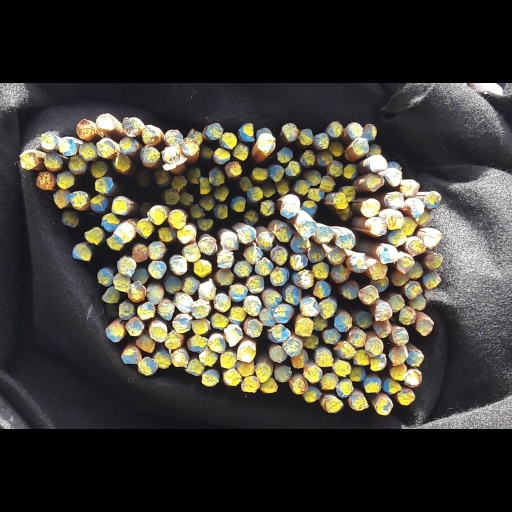dipstick: (280, 164, 300, 199), (137, 406, 158, 435), (147, 180, 167, 210), (388, 388, 408, 418), (359, 298, 379, 327), (127, 292, 145, 324), (191, 319, 210, 349), (122, 51, 141, 80), (365, 133, 384, 162), (199, 289, 216, 321), (225, 357, 242, 389), (97, 81, 115, 111), (111, 166, 129, 196), (187, 372, 207, 399), (136, 372, 155, 400), (237, 386, 256, 414), (257, 73, 275, 102), (168, 187, 186, 216), (115, 207, 133, 236), (146, 298, 164, 327), (181, 284, 199, 313), (175, 312, 193, 341), (275, 207, 293, 236), (140, 93, 160, 119), (360, 170, 380, 196), (44, 102, 63, 129), (193, 261, 212, 288), (220, 221, 239, 248), (336, 436, 353, 466), (79, 87, 97, 115), (76, 54, 94, 82), (348, 364, 366, 392), (365, 377, 383, 405), (369, 263, 387, 291), (335, 221, 355, 246), (290, 225, 310, 250), (406, 231, 426, 256), (84, 213, 103, 239), (117, 258, 136, 284), (237, 211, 256, 237), (303, 448, 322, 474), (423, 218, 442, 244), (142, 62, 159, 91), (282, 58, 299, 87), (20, 101, 38, 128), (36, 131, 54, 158), (101, 192, 119, 219), (73, 237, 91, 264), (157, 324, 175, 351), (105, 357, 123, 384), (208, 373, 226, 400), (223, 422, 241, 449), (295, 348, 313, 375), (319, 322, 337, 349), (387, 312, 405, 339), (404, 293, 422, 320), (406, 170, 424, 197), (114, 279, 130, 309), (324, 465, 344, 489), (41, 71, 58, 99), (299, 202, 316, 230), (296, 276, 313, 304), (291, 394, 308, 422), (392, 361, 409, 389), (199, 394, 218, 419), (70, 159, 88, 185), (148, 263, 166, 289), (244, 241, 262, 267), (331, 269, 349, 295), (172, 343, 190, 369), (283, 380, 301, 406), (269, 388, 287, 414), (300, 319, 318, 345), (375, 466, 393, 492), (416, 349, 434, 375), (136, 201, 152, 230), (351, 250, 367, 279), (122, 392, 142, 415), (59, 80, 76, 107), (270, 273, 287, 300), (308, 238, 325, 265), (154, 396, 171, 423), (375, 324, 392, 351), (380, 240, 397, 267), (119, 81, 138, 105), (96, 45, 114, 70), (165, 68, 183, 93), (162, 94, 180, 119), (198, 228, 216, 253), (137, 324, 155, 349), (255, 259, 273, 284), (229, 299, 247, 324), (125, 350, 143, 375), (171, 395, 189, 420), (186, 407, 204, 432), (201, 424, 219, 449), (260, 435, 278, 460), (333, 410, 351, 435), (351, 460, 369, 485), (406, 395, 424, 420), (334, 343, 352, 368), (341, 293, 359, 318), (369, 200, 387, 225), (402, 197, 417, 227), (401, 144, 419, 169), (171, 256, 187, 284), (165, 284, 181, 312), (257, 219, 273, 247), (165, 366, 181, 394), (182, 81, 199, 107), (90, 164, 107, 190), (96, 274, 113, 300), (290, 252, 307, 278), (264, 308, 281, 334), (374, 352, 391, 378), (355, 338, 372, 364), (397, 256, 414, 282), (423, 279, 440, 305), (386, 190, 403, 216), (94, 139, 113, 162), (271, 358, 290, 381), (67, 108, 85, 132), (184, 238, 200, 265), (102, 301, 120, 325), (327, 54, 343, 81), (234, 263, 252, 287), (149, 359, 167, 383), (304, 419, 322, 443), (274, 329, 290, 356), (397, 453, 415, 477), (338, 384, 356, 408), (408, 312, 426, 336), (391, 277, 409, 301), (57, 132, 74, 157), (154, 128, 171, 153), (319, 137, 336, 162), (316, 212, 333, 237), (229, 331, 246, 356), (398, 333, 415, 358), (206, 58, 222, 84), (209, 126, 225, 152), (199, 163, 215, 189), (119, 324, 135, 350), (214, 312, 230, 338), (217, 247, 233, 273), (347, 57, 363, 83), (271, 243, 287, 269), (388, 161, 404, 187), (323, 363, 341, 386), (383, 437, 401, 460), (389, 218, 407, 241), (216, 274, 233, 298), (352, 81, 369, 105), (293, 142, 310, 166), (247, 286, 264, 310), (211, 341, 228, 365), (242, 434, 259, 458), (274, 419, 291, 443), (316, 395, 333, 419), (404, 426, 421, 450), (370, 106, 387, 130), (286, 301, 301, 328), (408, 263, 423, 290), (115, 105, 131, 130), (269, 120, 285, 145), (305, 128, 321, 153), (220, 397, 236, 422), (255, 415, 271, 440), (425, 159, 441, 184), (425, 253, 443, 275), (387, 125, 401, 153), (91, 116, 108, 139), (225, 116, 242, 139), (177, 213, 194, 236), (302, 372, 319, 395), (321, 429, 338, 452), (390, 417, 407, 440), (369, 402, 386, 425), (335, 180, 352, 203), (239, 59, 254, 85), (149, 235, 164, 261), (314, 73, 329, 99), (362, 59, 377, 85), (247, 349, 262, 375), (163, 156, 179, 180), (132, 240, 148, 264), (247, 152, 263, 176), (329, 243, 345, 267), (158, 213, 176, 234), (236, 412, 254, 433), (298, 66, 313, 91), (262, 145, 277, 170), (313, 265, 328, 290), (260, 334, 275, 359), (131, 274, 148, 296), (276, 95, 293, 117), (291, 438, 308, 460), (244, 321, 260, 344), (353, 395, 369, 418), (188, 67, 203, 91), (233, 90, 248, 114), (317, 99, 332, 123), (350, 418, 365, 442), (213, 98, 230, 119), (301, 99, 315, 124), (329, 114, 343, 139), (342, 151, 356, 176), (214, 153, 229, 176), (222, 73, 236, 97), (231, 167, 245, 191), (252, 123, 268, 144), (285, 116, 301, 137), (275, 141, 289, 165), (302, 174, 317, 196), (308, 156, 325, 175), (365, 437, 381, 457), (171, 136, 186, 157), (190, 179, 205, 200), (313, 345, 328, 366), (198, 139, 211, 163), (245, 187, 258, 211), (197, 200, 213, 219), (344, 119, 357, 142), (335, 162, 348, 185), (261, 173, 274, 196), (187, 125, 200, 147), (214, 179, 227, 201), (179, 161, 194, 180), (107, 227, 121, 247), (330, 85, 342, 108), (240, 138, 252, 160), (200, 91, 213, 111), (257, 65, 272, 82), (388, 115, 402, 130), (369, 90, 381, 105)
